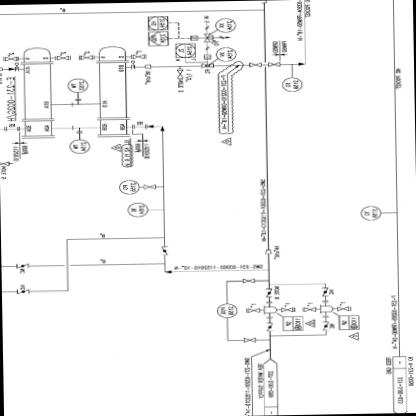LMI: (112, 177, 140, 194), (355, 203, 381, 221), (277, 76, 306, 92), (66, 138, 94, 154), (124, 201, 148, 217), (214, 16, 237, 32), (66, 78, 90, 92), (215, 302, 238, 316), (215, 46, 235, 60)
TAG: (146, 14, 168, 30), (173, 42, 196, 56)
